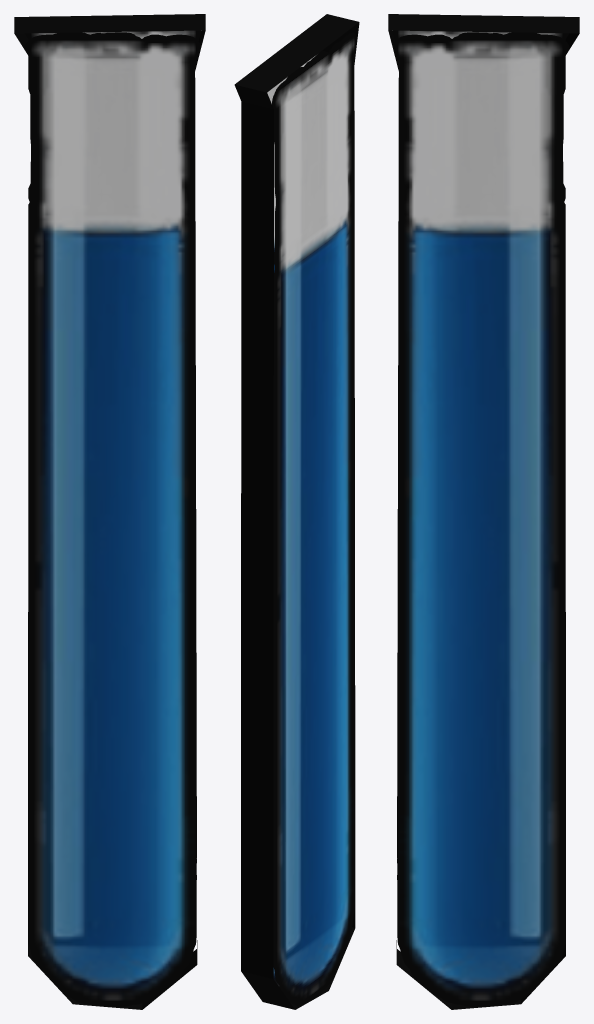
The model's file is Acid.fbx.
The picture shows the model from 3 angles, left to right: view 1: azimuth 90°, elevation 25°; view 2: azimuth 150°, elevation 25°; view 3: azimuth 270°, elevation 25°; orthographic projection. The views are drawn at different scales.
Visible parts, largest first — view 1: Acid; view 2: Acid; view 3: Acid.
Part boxes in pixels (x1,y1,x2,y2): Acid: (14,14,205,1009); Acid: (234,14,359,1009); Acid: (388,14,579,1009).
Bounding box in the file's own units: 2.68 × 74.26 × 13.15.
